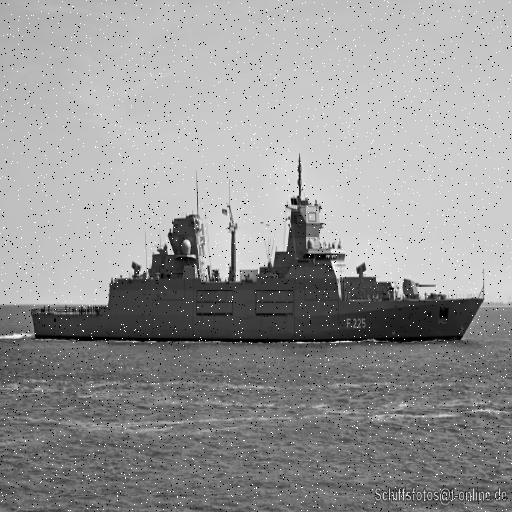Fragata: (30, 151, 489, 348)
